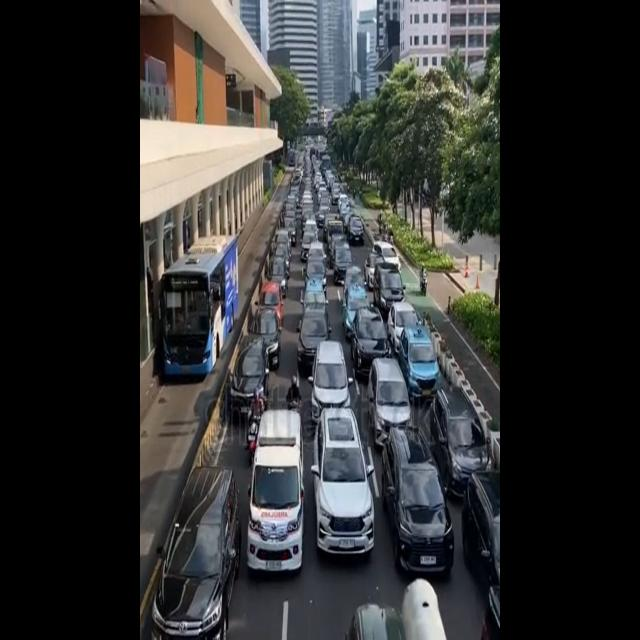Ambulance: (249, 394, 308, 578)
